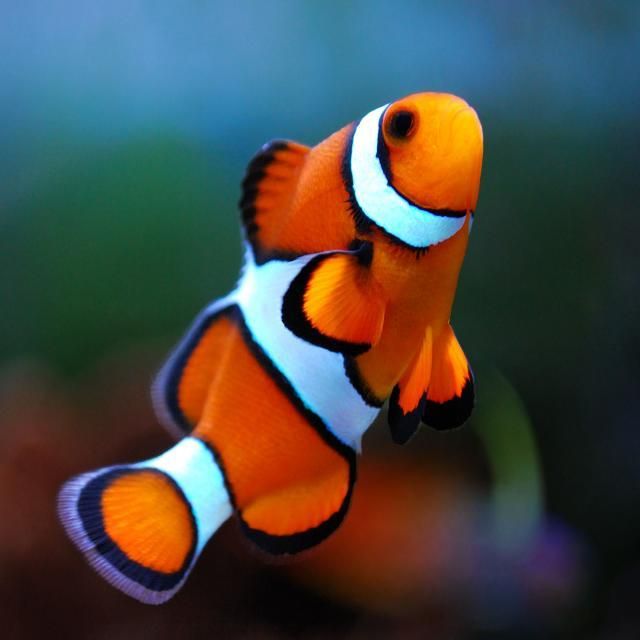ClownFish: (56, 88, 486, 610)
